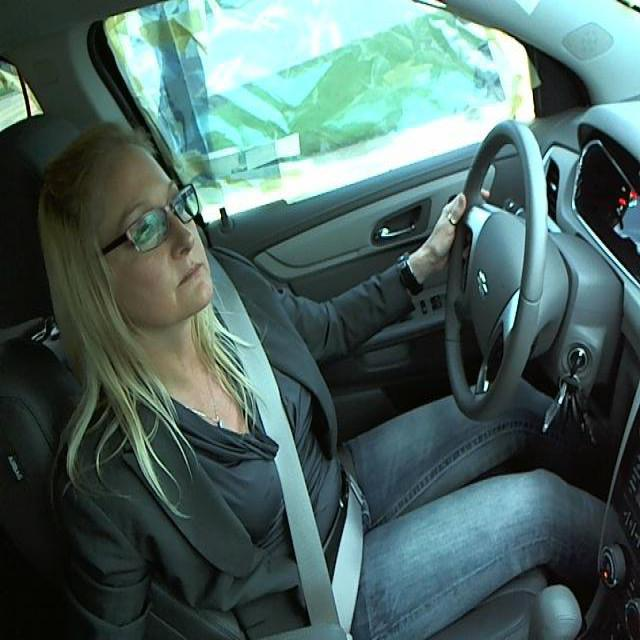seatbelt: (202, 299, 369, 616)
